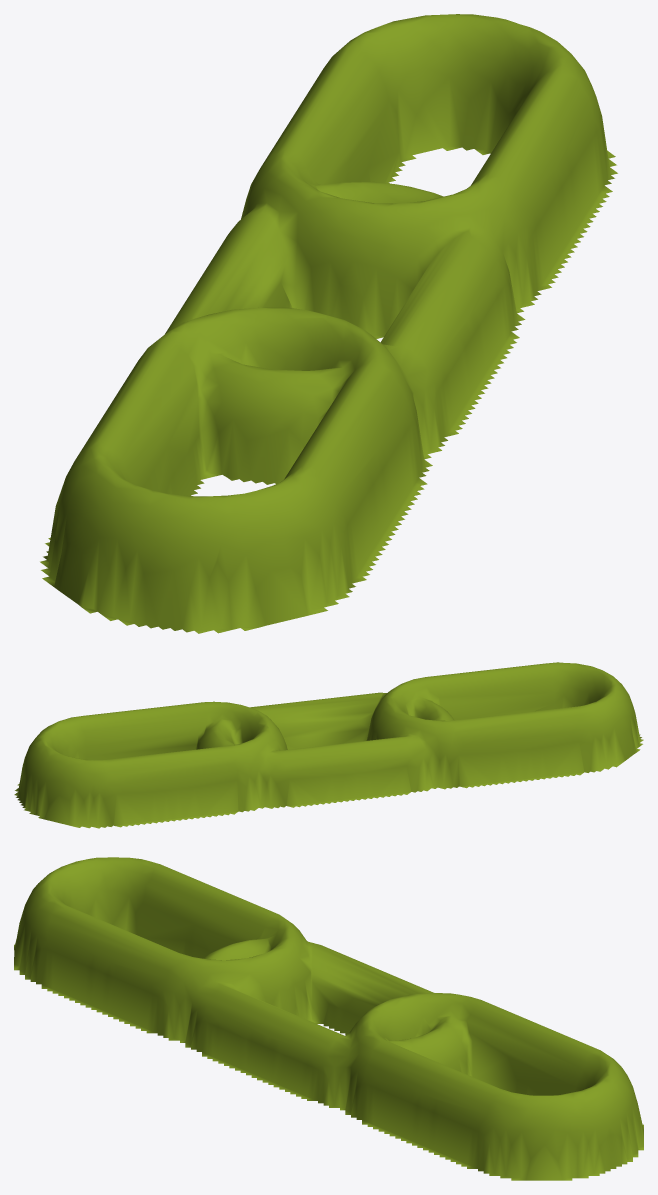
The model's file is decoration-warlock-draco.glb.
The picture shows the model from 3 angles, top to bottom: view 1: azimuth 30°, elevation 25°; view 2: azimuth 150°, elevation 25°; view 3: azimuth 270°, elevation 25°; orthographic projection. The views are drawn at different scales.
Parts seen in each view (by area): view 1: decoration_warlock; view 2: decoration_warlock; view 3: decoration_warlock.
Boxes of the visible parts, x1=… form: decoration_warlock: x1=40, y1=14, x2=617, y2=633; decoration_warlock: x1=14, y1=662, x2=643, y2=828; decoration_warlock: x1=14, y1=857, x2=643, y2=1180.
Bounding box in the file's own units: 0.2052 × 0.0256 × 0.2052.
